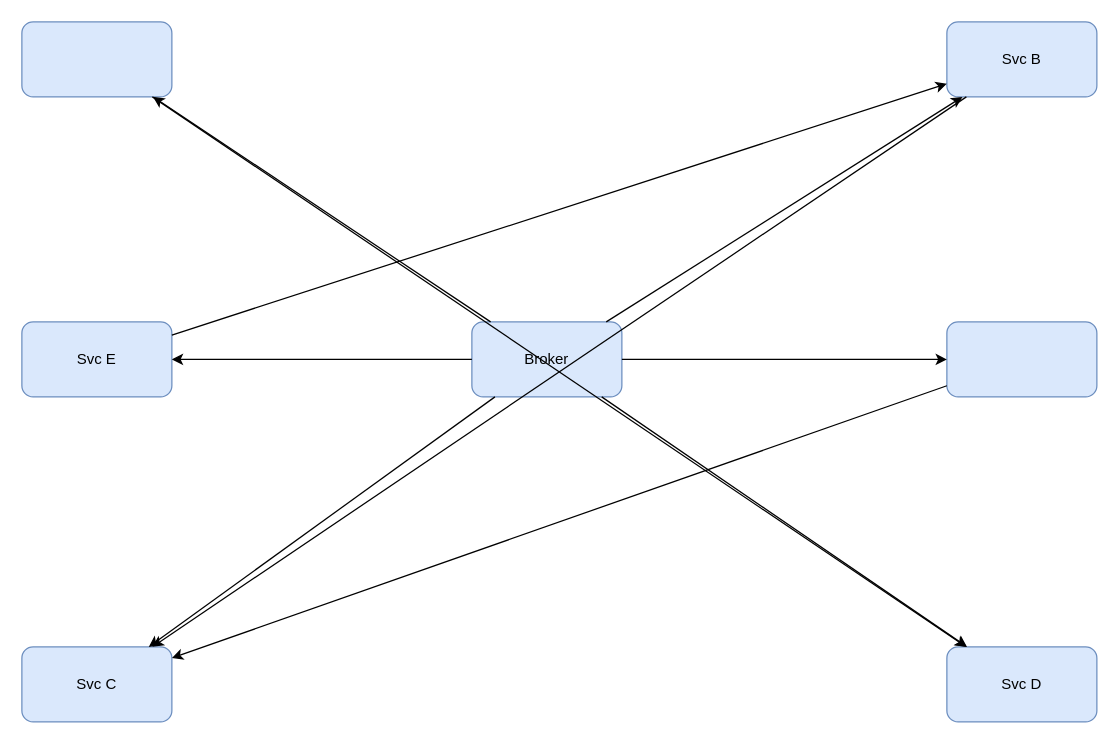
This 1119x744 diagram has some shape labels left out. Each missing label, with the box of its shape:
Svc A: (21, 21, 172, 97)
Svc F: (946, 321, 1097, 397)
